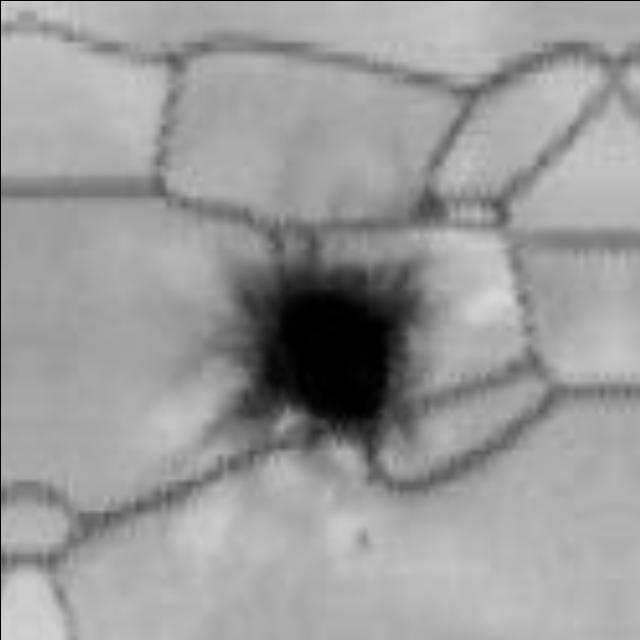good_void: (236, 227, 426, 467)
